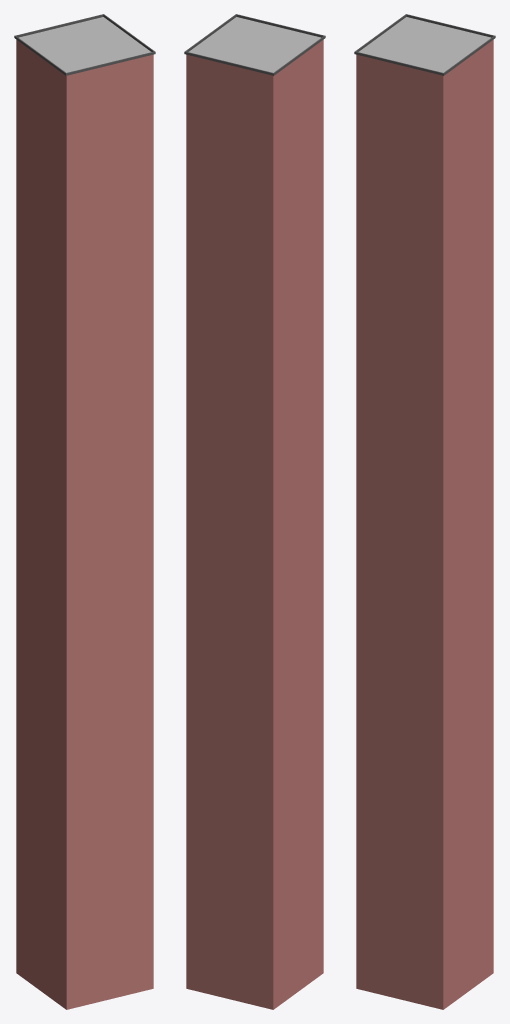
File: Building 2.fbx
3 views of the same model, side by side, from view 1: azimuth 30°, elevation 25°; view 2: azimuth 150°, elevation 25°; view 3: azimuth 330°, elevation 25° (orthographic).
Parts seen in each view (by area): view 1: Cube; view 2: Cube; view 3: Cube.
Boxes of the visible parts, left/top/right/bottom form: Cube: left=14, top=14, right=155, bottom=1009; Cube: left=184, top=14, right=325, bottom=1009; Cube: left=354, top=14, right=495, bottom=1009.
Size of the model in its own units: 400 by 4006 by 400.
